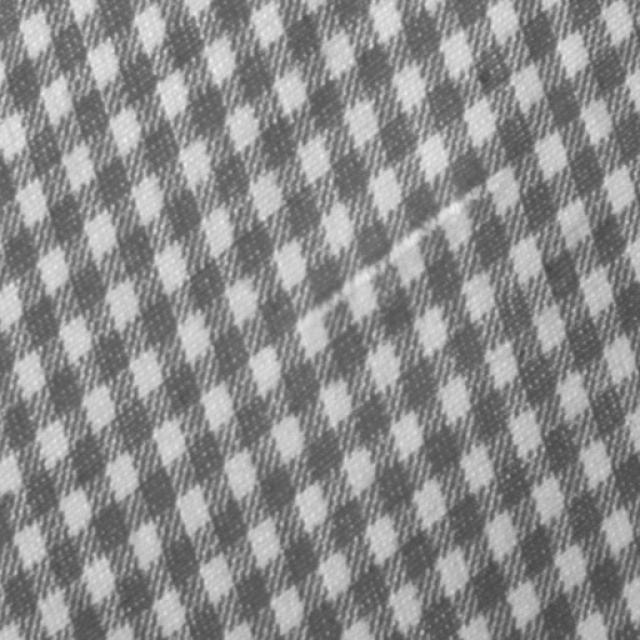Thread-Defect: (292, 171, 488, 345)
